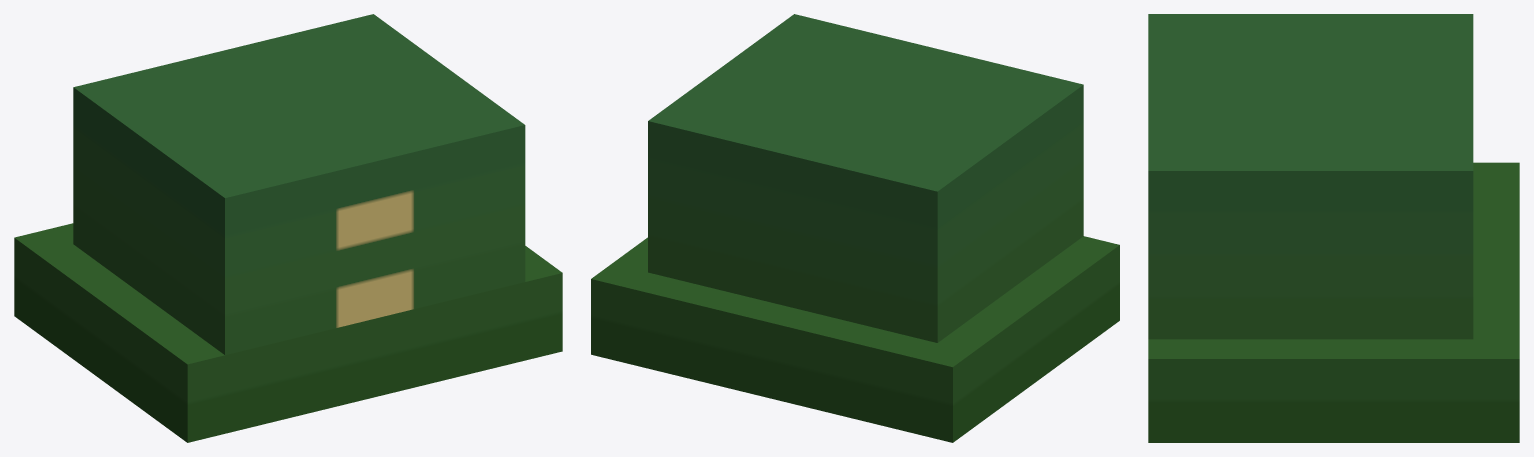
File: Spine067.fbx
3 views of the same model, side by side, from view 1: azimuth 30°, elevation 25°; view 2: azimuth 150°, elevation 25°; view 3: azimuth 270°, elevation 25° (orthographic). The views are drawn at different scales.
Visible parts, largest first — view 1: Spine067; view 2: Spine067; view 3: Spine067.
Boxes of the visible parts, x1,y1,x2,y2 form: Spine067: (14, 14, 562, 442); Spine067: (591, 14, 1119, 442); Spine067: (1148, 14, 1519, 442).
Bounding box in the file's own units: 10 × 6 × 8.
